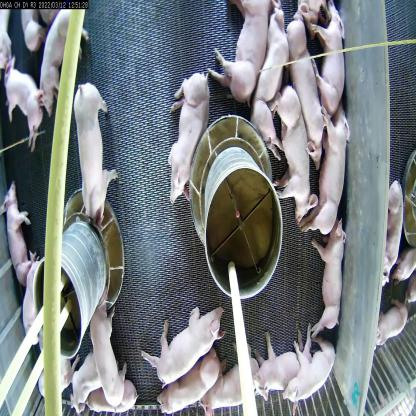Pig: (70, 77, 120, 231), (281, 8, 328, 170), (140, 303, 226, 387), (269, 81, 319, 222), (299, 104, 350, 233), (210, 0, 269, 103), (167, 71, 211, 205), (306, 216, 350, 342), (84, 288, 129, 406), (38, 9, 87, 112), (252, 9, 284, 160), (249, 328, 317, 399), (307, 1, 349, 115), (280, 336, 337, 416), (0, 178, 44, 280), (198, 346, 260, 415), (1, 52, 46, 146), (156, 349, 224, 409), (67, 347, 104, 412), (86, 372, 140, 416), (15, 248, 40, 343), (368, 297, 411, 349), (35, 350, 83, 396), (381, 172, 398, 290), (292, 0, 326, 37)
